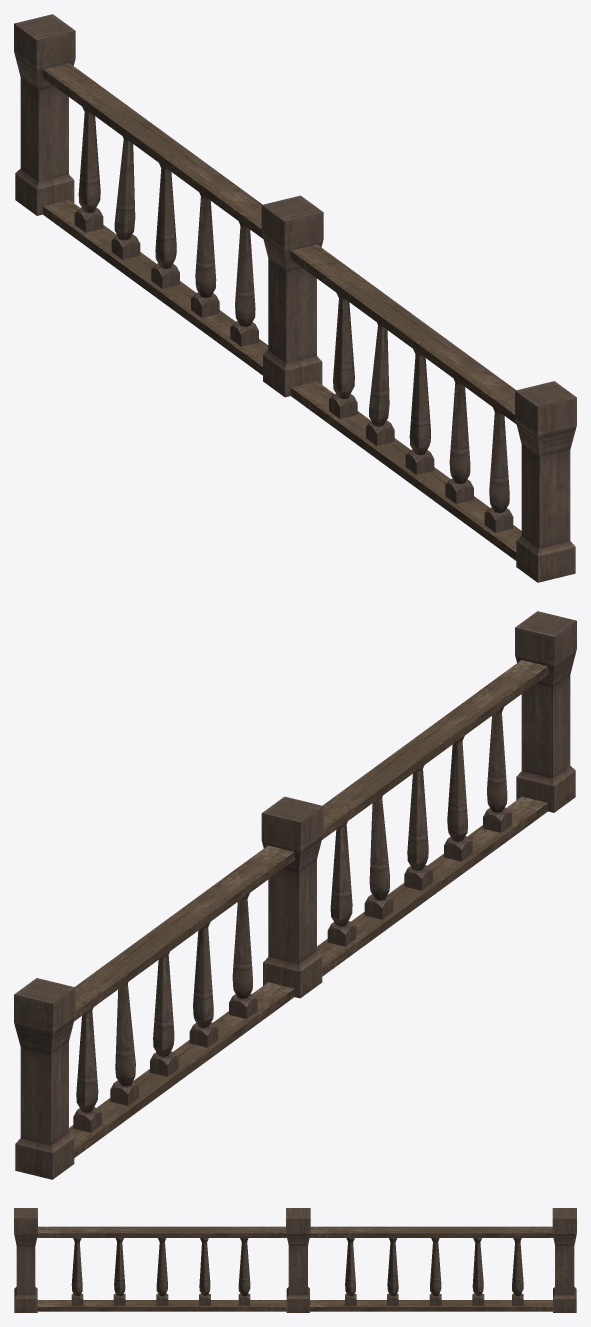
The model's file is bg_lut_lucastle_houseinfence01_sm_artree.FBX.
3 renders of one model, top to bottom at view 1: azimuth 30°, elevation 25°; view 2: azimuth 150°, elevation 25°; view 3: azimuth 270°, elevation 25°, orthographic. The views are drawn at different scales.
Visible parts, largest first — view 1: bg_lut_lucastle_houseinfence01_sm_artree; view 2: bg_lut_lucastle_houseinfence01_sm_artree; view 3: bg_lut_lucastle_houseinfence01_sm_artree.
Part boxes in pixels (x1,y1,x2,y2): bg_lut_lucastle_houseinfence01_sm_artree: [14, 14, 576, 582]; bg_lut_lucastle_houseinfence01_sm_artree: [14, 611, 576, 1179]; bg_lut_lucastle_houseinfence01_sm_artree: [14, 1208, 576, 1312].
Bounding box in the file's own units: 16.24 × 69.3 × 373.
